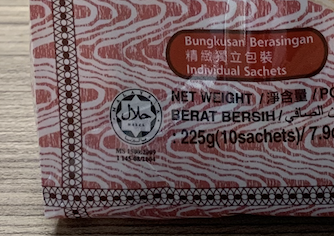halal: (116, 95, 156, 139)
